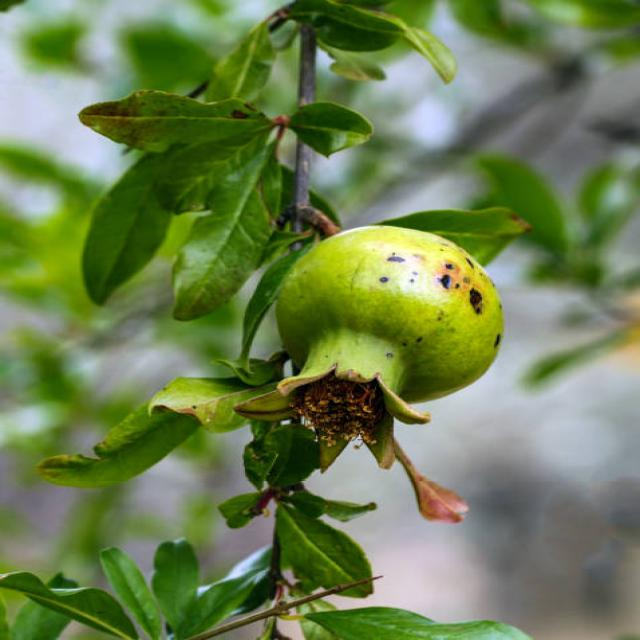Unripe: (238, 223, 506, 472)
